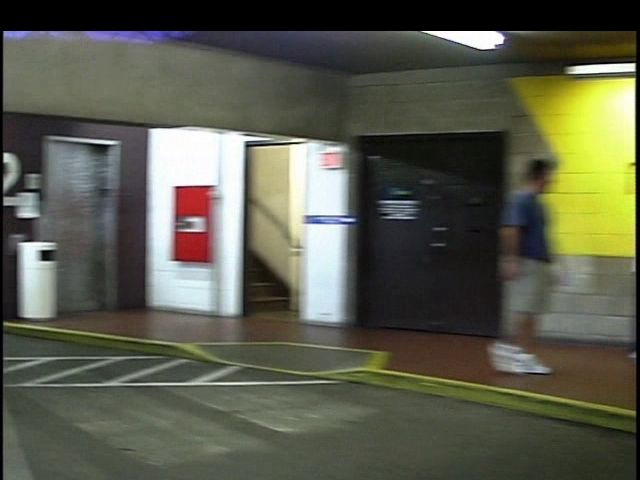person: (446, 153, 562, 381)
